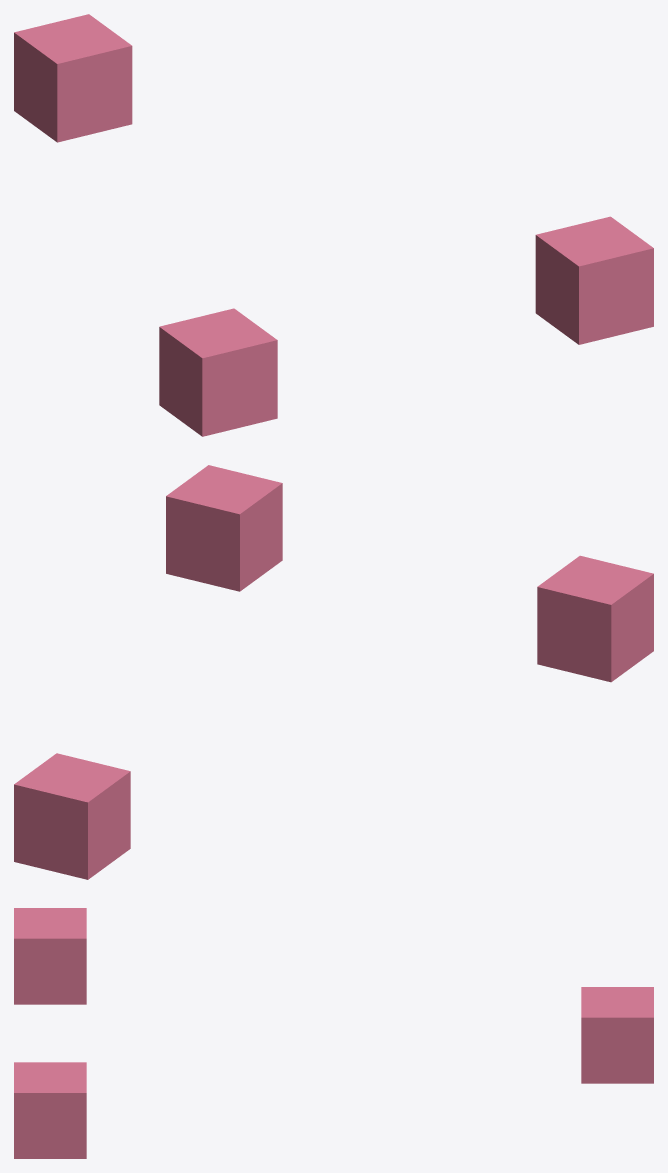
File: mapMesh.glb
The picture shows the model from 3 angles, top to bottom: view 1: azimuth 30°, elevation 25°; view 2: azimuth 150°, elevation 25°; view 3: azimuth 270°, elevation 25°; orthographic projection. The views are drawn at different scales.
Visible parts, largest first — view 1: Cube, Cube.001, Cube.002; view 2: Cube.002, Cube, Cube.001; view 3: Cube, Cube.001, Cube.002.
Boxes of the visible parts, x1,y1,x2,y2 form: Cube: (535, 216, 653, 344); Cube.001: (159, 308, 277, 436); Cube.002: (14, 14, 132, 142); Cube.002: (14, 753, 130, 879); Cube: (166, 465, 282, 591); Cube.001: (537, 555, 653, 682); Cube: (14, 1062, 86, 1158); Cube.001: (14, 908, 86, 1004); Cube.002: (581, 987, 653, 1083).
Size of the model in its own units: 12.04 by 2 by 17.6.
